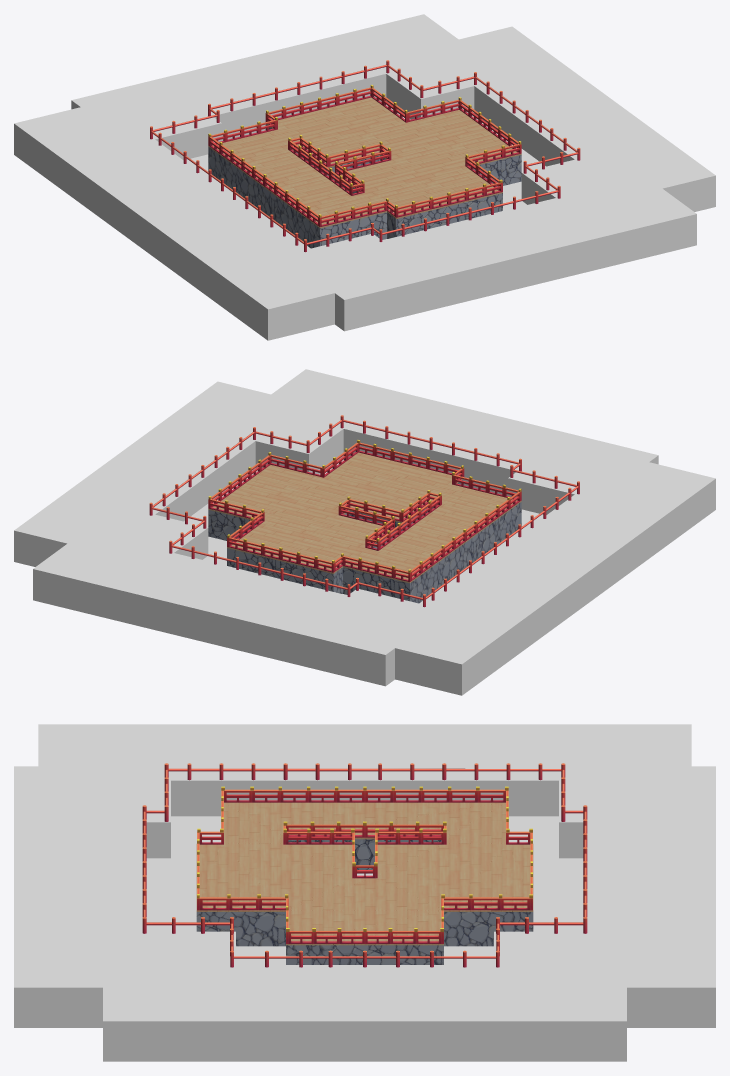
Rendered from Battle_Stage 39.fbx.
3 renders of one model, top to bottom at view 1: azimuth 30°, elevation 25°; view 2: azimuth 150°, elevation 25°; view 3: azimuth 270°, elevation 25°, orthographic. The views are drawn at different scales.
Parts seen in each view (by area): view 1: Platform_Cube__2_.004, Platform_Cube__2_.001, Cube.195, Cube.244; view 2: Platform_Cube__2_.004, Platform_Cube__2_.001, Cube.195, Cube.244; view 3: Platform_Cube__2_.004, Platform_Cube__2_.001, Cube.195, Cube.244.
Boxes of the visible parts, <box> form: Platform_Cube__2_.004: <box>14,14,715,340</box>; Platform_Cube__2_.001: <box>208,97,521,248</box>; Cube.195: <box>208,85,521,227</box>; Cube.244: <box>150,60,580,252</box>; Platform_Cube__2_.004: <box>14,369,715,695</box>; Platform_Cube__2_.001: <box>208,452,521,603</box>; Cube.195: <box>208,440,521,582</box>; Cube.244: <box>149,415,579,607</box>; Platform_Cube__2_.004: <box>14,724,715,1061</box>; Platform_Cube__2_.001: <box>196,802,533,964</box>; Cube.195: <box>197,786,532,943</box>; Cube.244: <box>142,763,587,967</box>.
Bounding box in the file's own units: 14204 × 1236 × 14193.
